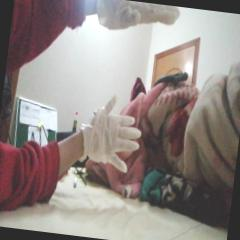gloved: (79, 91, 145, 174), (97, 0, 181, 40)
